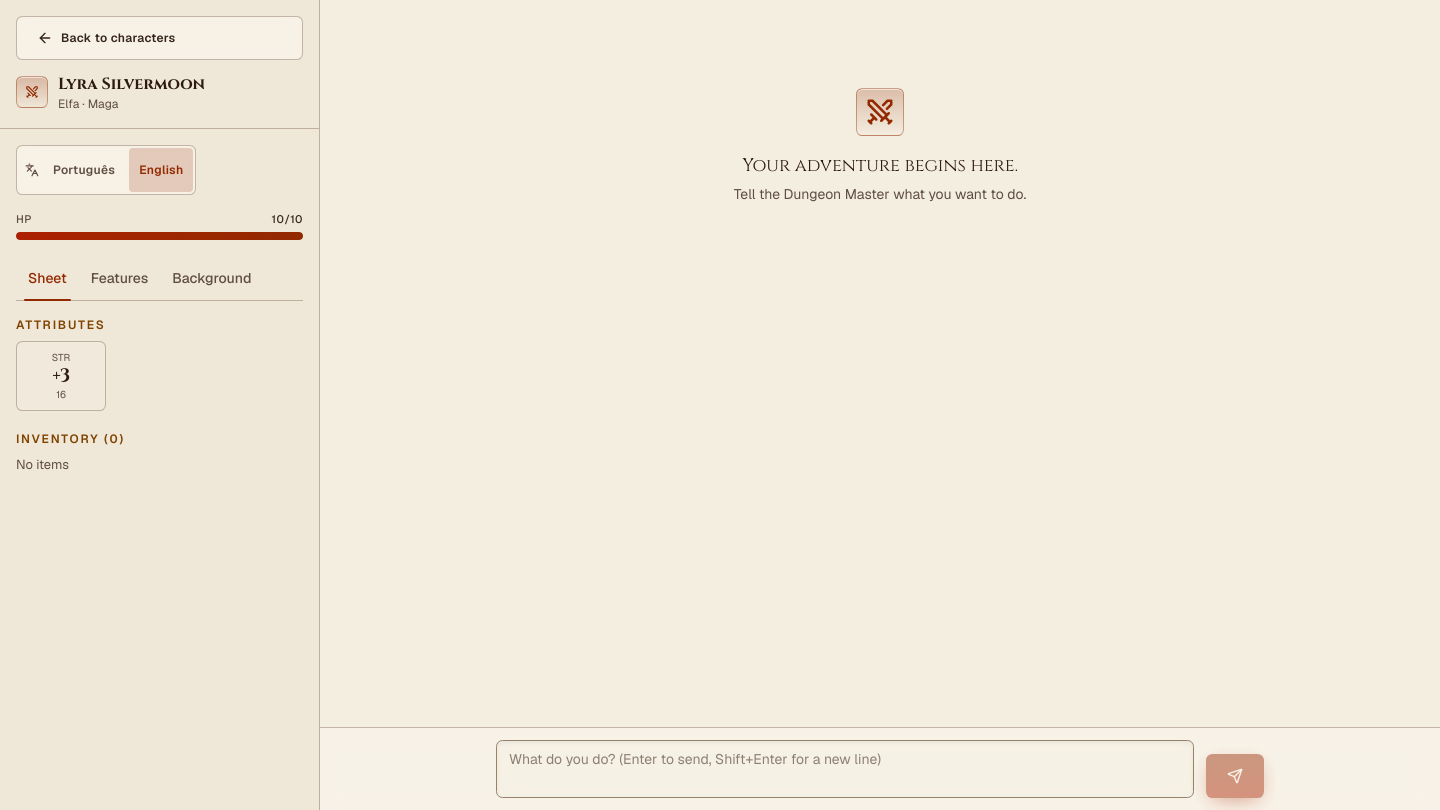
Test: GameView — aviso de troca de idioma no chat (US-97) › a lista de magias sai INTEIRA no idioma ativo (nome + rótulo de nível)
Click the tab "Features". click: (119, 278)
box: [79,256,160,300]
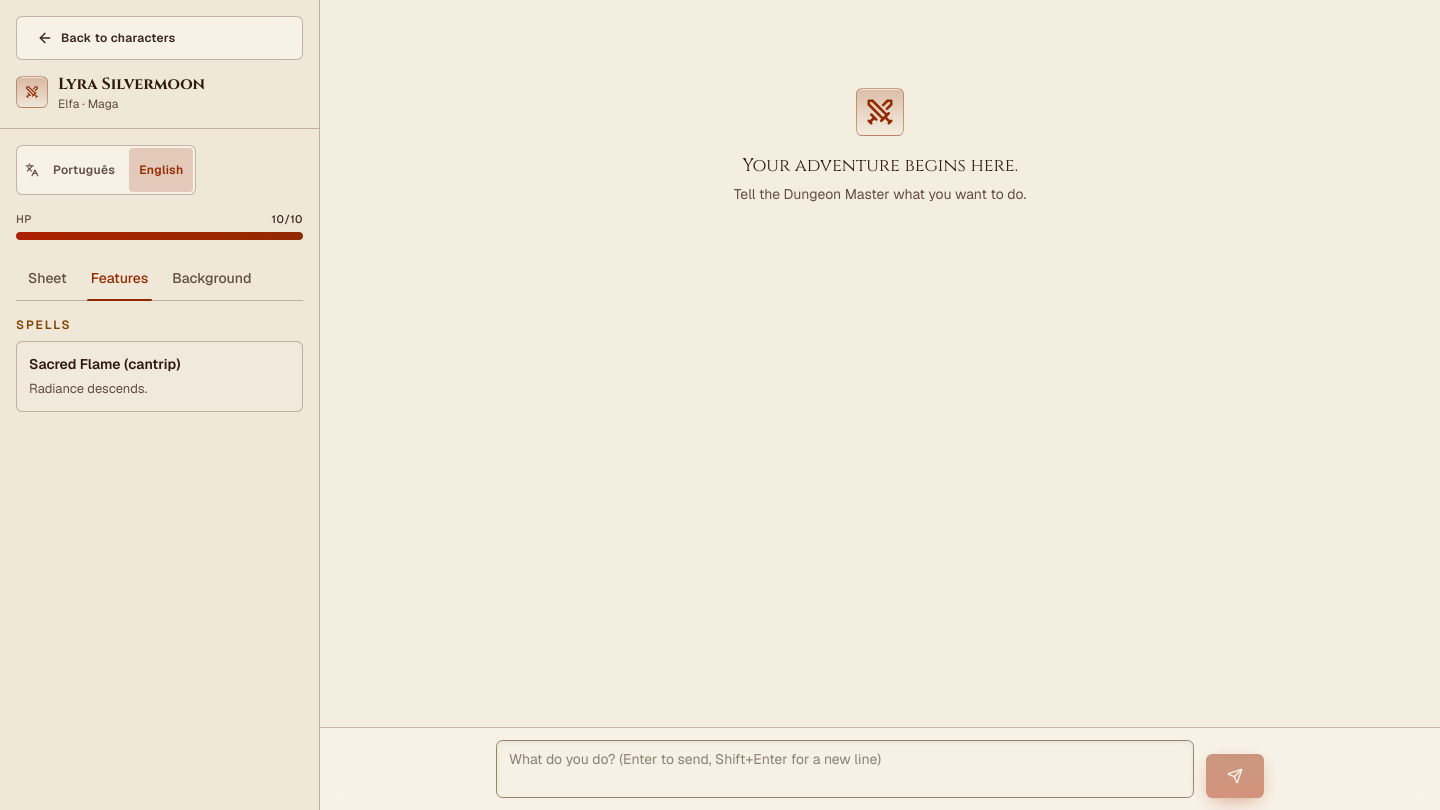
expect the text with test id "spell-name" reads "Sacred Flame (cantrip)": met, box [29,354,181,372]
